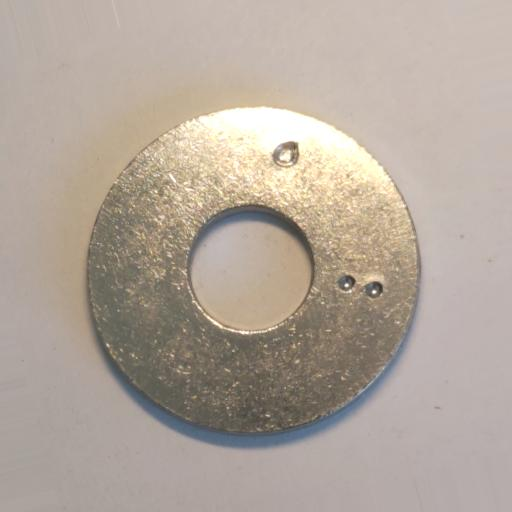circular_cavity: (272, 140, 303, 169), (337, 275, 357, 293), (364, 280, 384, 298)
